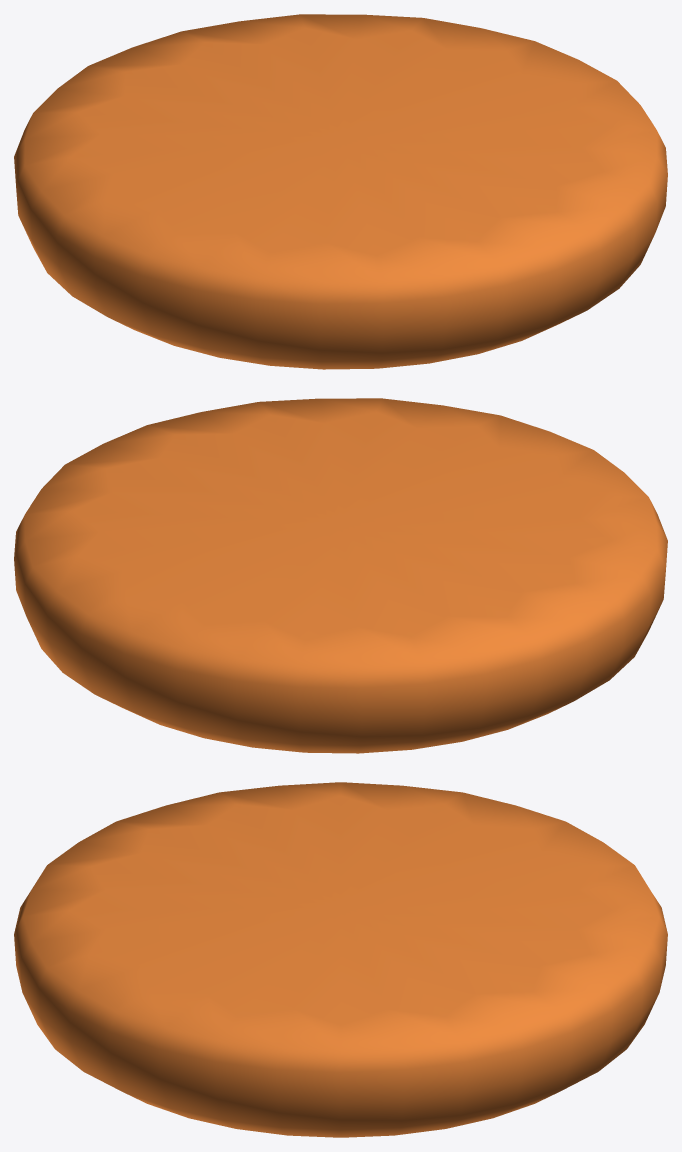
The model's file is BreadBottom.fbx.
The picture shows the model from 3 angles, top to bottom: view 1: azimuth 30°, elevation 25°; view 2: azimuth 150°, elevation 25°; view 3: azimuth 270°, elevation 25°; orthographic projection.
Visible parts, largest first — view 1: Cylinder.014; view 2: Cylinder.014; view 3: Cylinder.014.
Boxes of the visible parts, x1,y1,x2,y2 form: Cylinder.014: [14, 14, 667, 369]; Cylinder.014: [14, 398, 667, 753]; Cylinder.014: [14, 782, 667, 1137].
Size of the model in its own units: 195 by 47.79 by 195.
